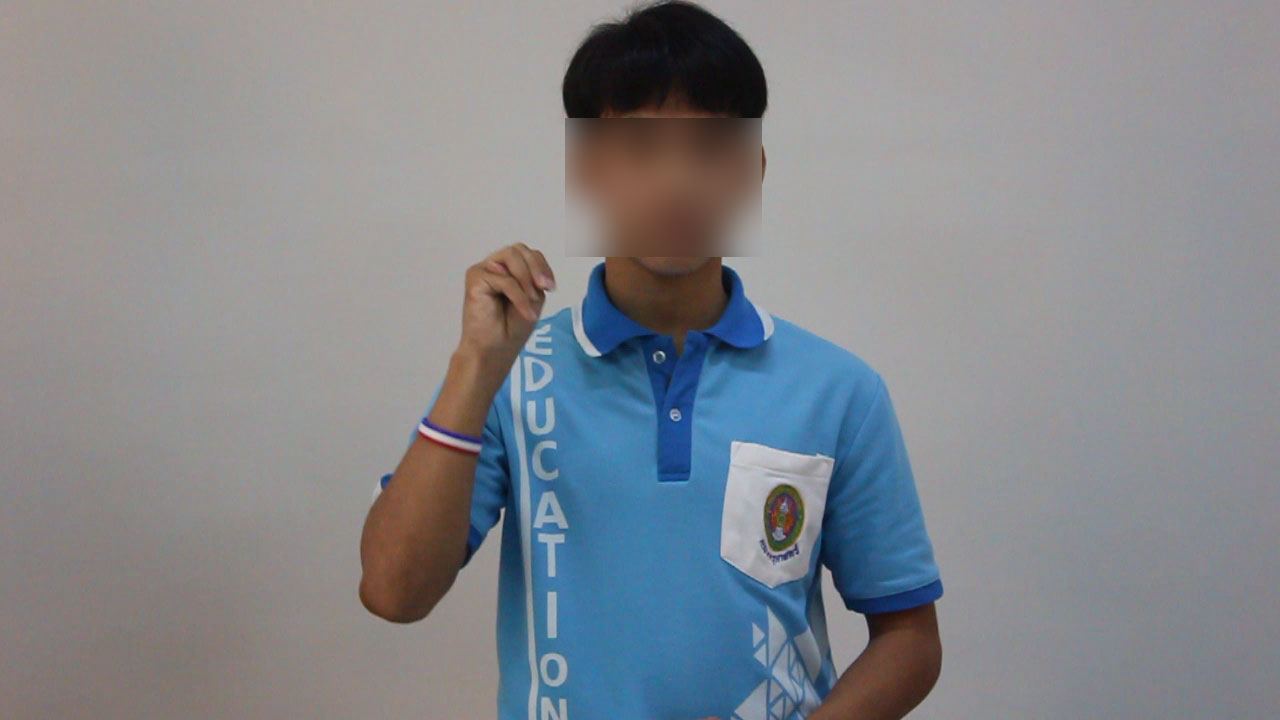mor: (460, 213, 562, 382)
